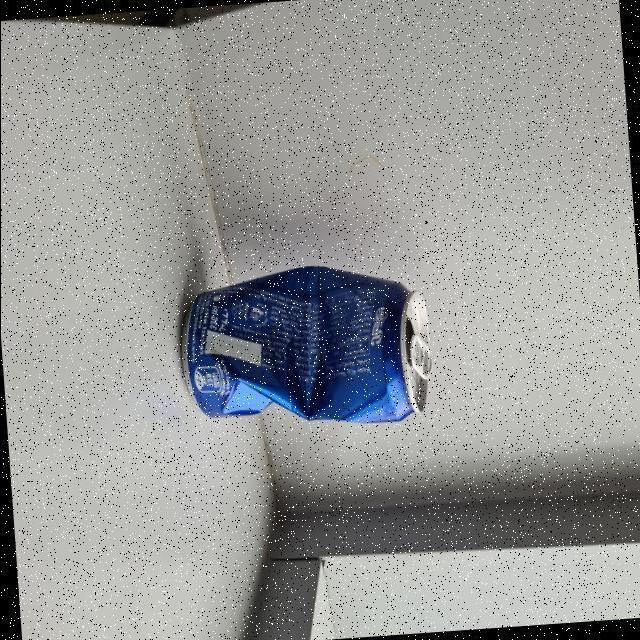can: (168, 248, 439, 441)
